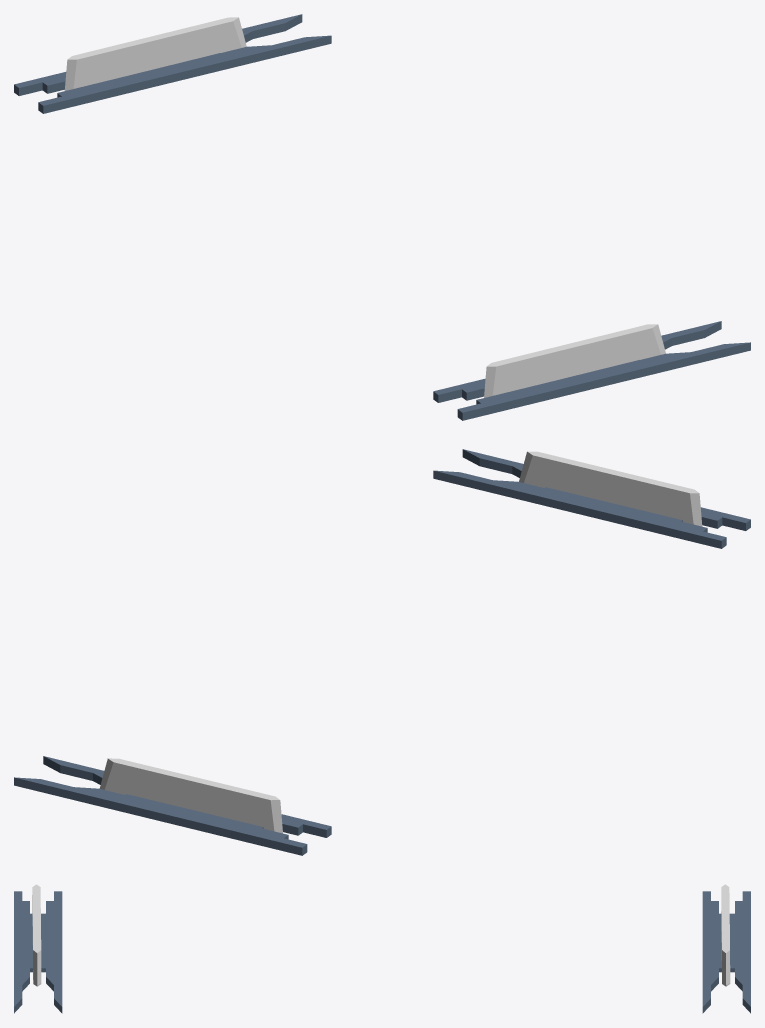
3 renders of one model, top to bottom at view 1: azimuth 30°, elevation 25°; view 2: azimuth 150°, elevation 25°; view 3: azimuth 270°, elevation 25°, orthographic. The views are drawn at different scales.
Parts seen in each view (by area): view 1: 立方体.033, 立方体.001; view 2: 立方体.033, 立方体.001; view 3: 立方体.033, 立方体.001.
Part boxes in pixels (x1,y1,x2,y2): 立方体.033: (14, 14, 331, 113); 立方体.001: (433, 321, 750, 420); 立方体.033: (14, 756, 331, 855); 立方体.001: (433, 449, 750, 548); 立方体.033: (702, 884, 750, 1013); 立方体.001: (14, 884, 62, 1013).
Bounding box in the file's own units: 3.17 × 0.3828 × 8.55.
